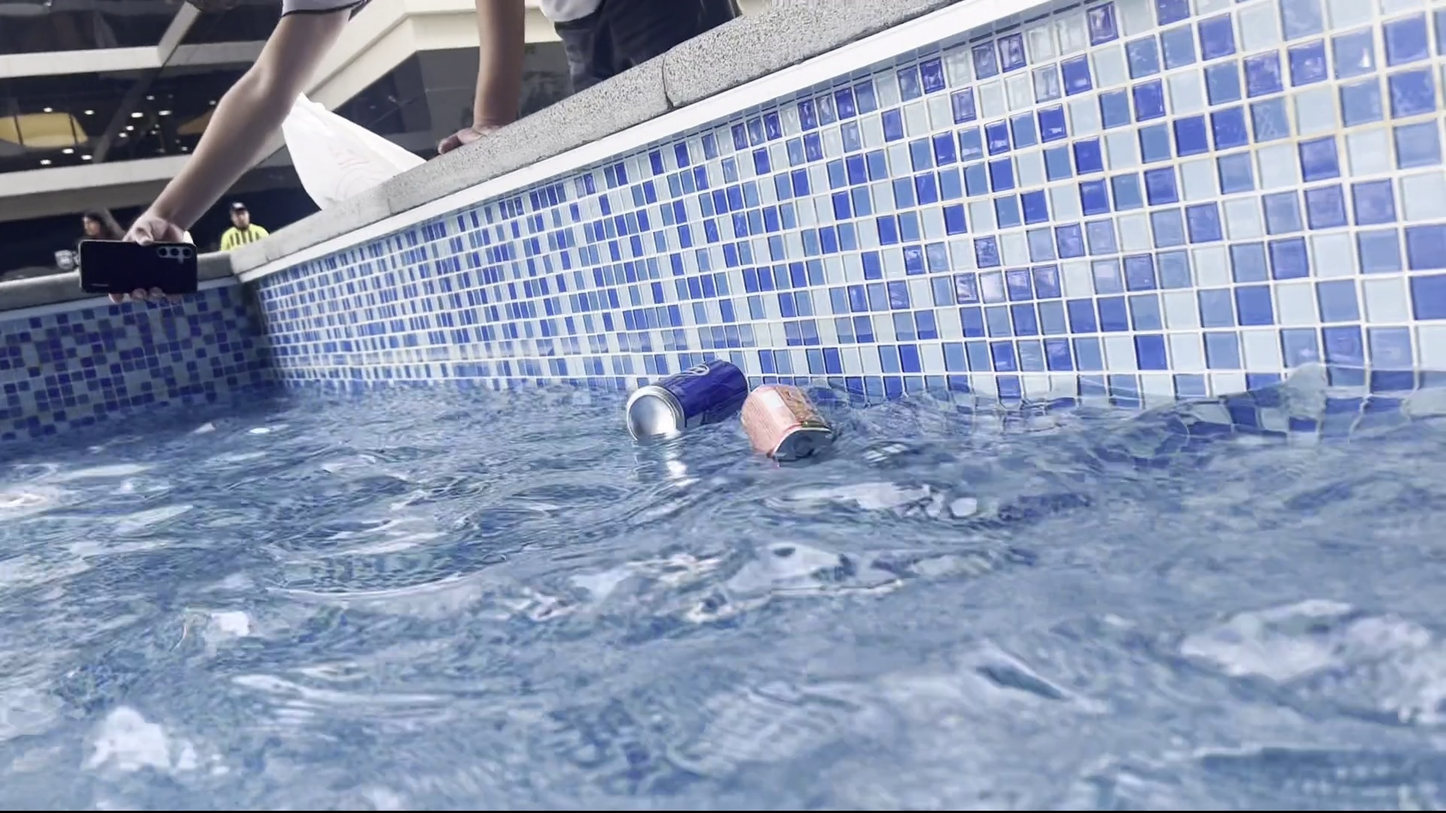debris: (620, 346, 749, 450), (730, 368, 840, 473)
